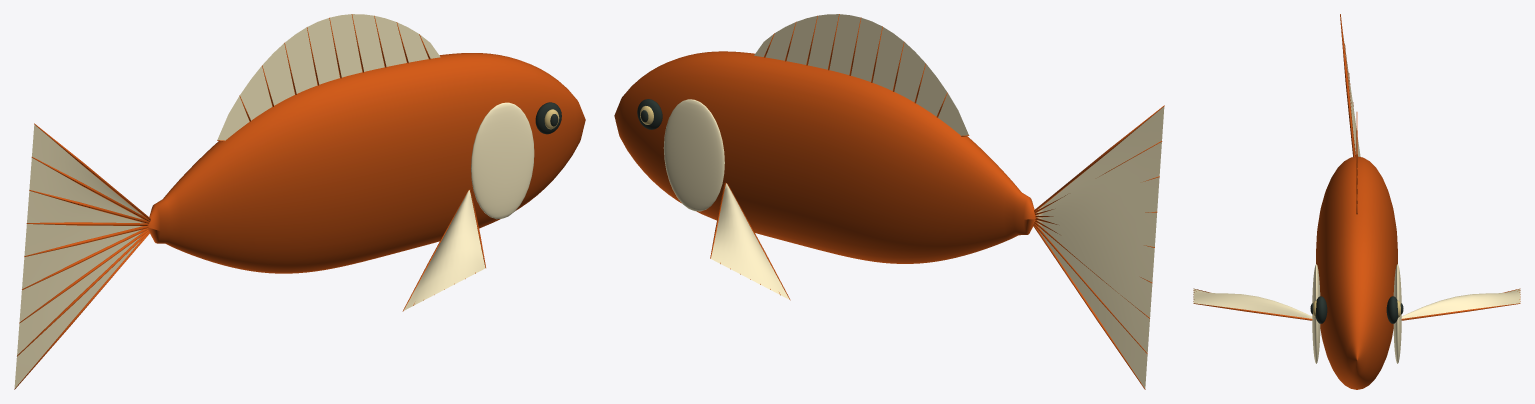
Rendered from fish-goldfish.glb.
3 views of the same model, side by side, from view 1: azimuth 30°, elevation 25°; view 2: azimuth 150°, elevation 25°; view 3: azimuth 270°, elevation 25° (orthographic). The views are drawn at different scales.
Visible parts, largest first — view 1: FishMesh_1.001, FishMesh_2.001, FishMesh_3.001; view 2: FishMesh_1.001, FishMesh_2.001, FishMesh_3.001; view 3: FishMesh_1.001, FishMesh_2.001, FishMesh_3.001.
Part boxes in pixels (box(x1,y1,x2,y2)): FishMesh_1.001: box(14, 14, 585, 389); FishMesh_2.001: box(14, 14, 534, 388); FishMesh_3.001: box(535, 102, 561, 134); FishMesh_1.001: box(614, 14, 1164, 389); FishMesh_2.001: box(663, 14, 1164, 388); FishMesh_3.001: box(637, 99, 662, 129); FishMesh_1.001: box(1193, 14, 1520, 389); FishMesh_2.001: box(1193, 34, 1520, 363); FishMesh_3.001: box(1310, 296, 1403, 323).
Bounding box in the file's own units: 1.15 × 0.5975 × 0.6954.
Materials: 4 (1 with a texture image).
